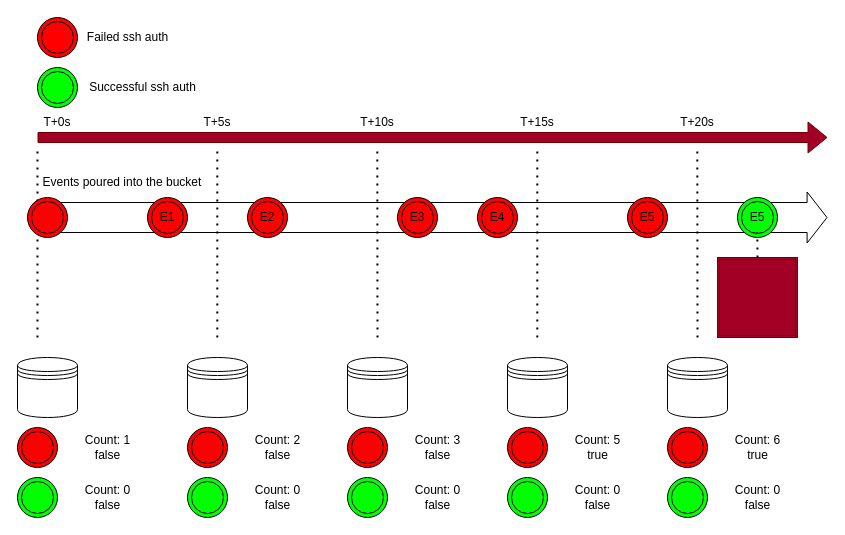
Image size: 845x535. Some labels were removed from this diagram. Each missing label, with the centre of its shape:
"E0" goes at [47,217].
"OVERFLOW" goes at [757,297].
